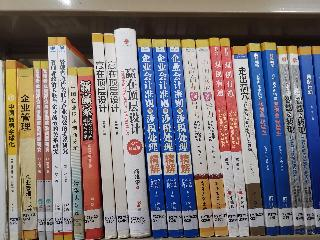book-spine: (113, 30, 152, 238), (163, 37, 201, 239), (193, 40, 229, 237), (181, 38, 216, 239), (245, 42, 281, 236), (134, 36, 168, 240), (151, 38, 185, 239), (261, 38, 295, 237), (231, 46, 266, 237), (218, 37, 250, 239), (273, 46, 306, 235), (101, 33, 131, 240), (89, 32, 118, 240), (209, 38, 239, 237), (287, 45, 317, 235), (72, 66, 104, 240), (297, 46, 320, 236), (15, 67, 38, 240), (54, 36, 73, 240), (46, 36, 64, 239), (66, 66, 85, 240), (3, 59, 21, 240), (33, 61, 46, 239)
